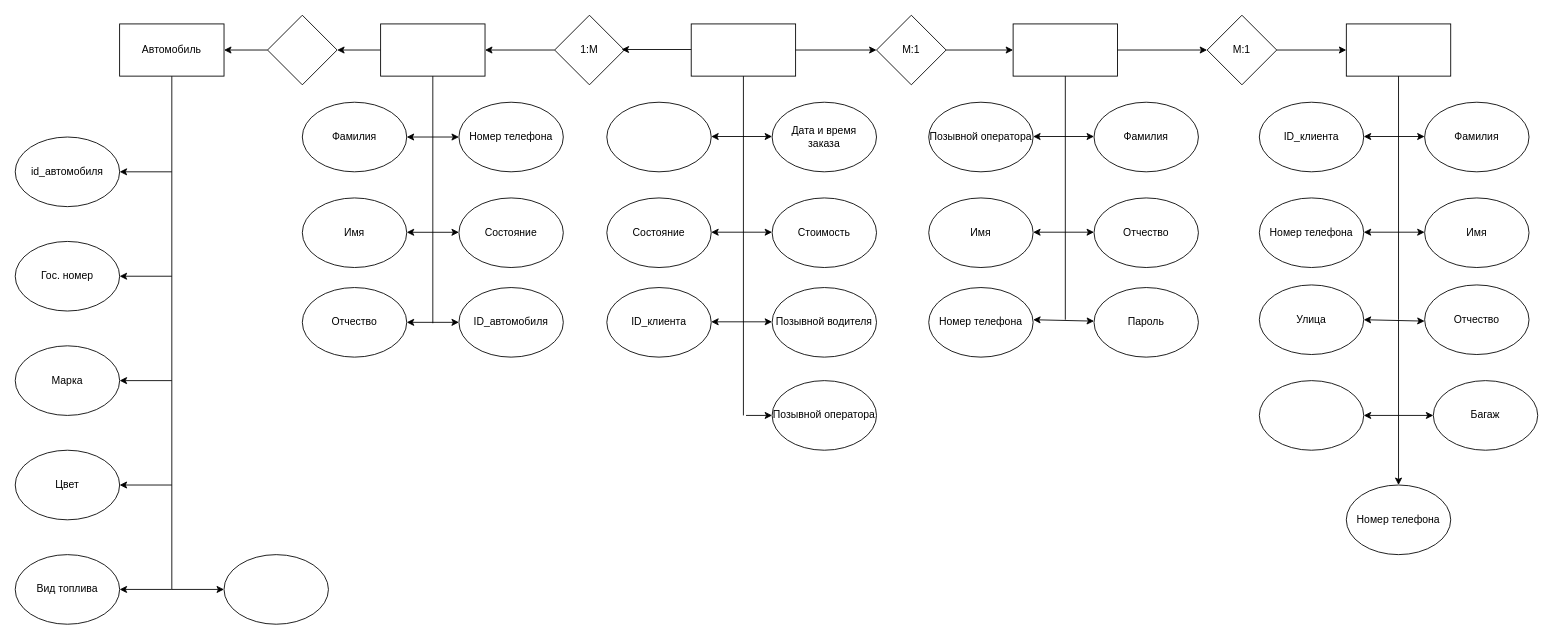
Some shapes in this 1553 by 639 pixel diagram are drawn without their labels. Each missing label, with the centre of its shape:
"2:М" belongs at [302,49].
"ID_заказа" belongs at [658,136].
"Водитель" belongs at [432,49].
"Год выпуска" belongs at [275,589].
"Дом" belongs at [1311,415].
"Заказ" belongs at [743,49].
"Клиент" belongs at [1398,49].
"Оператор" belongs at [1065,49].
